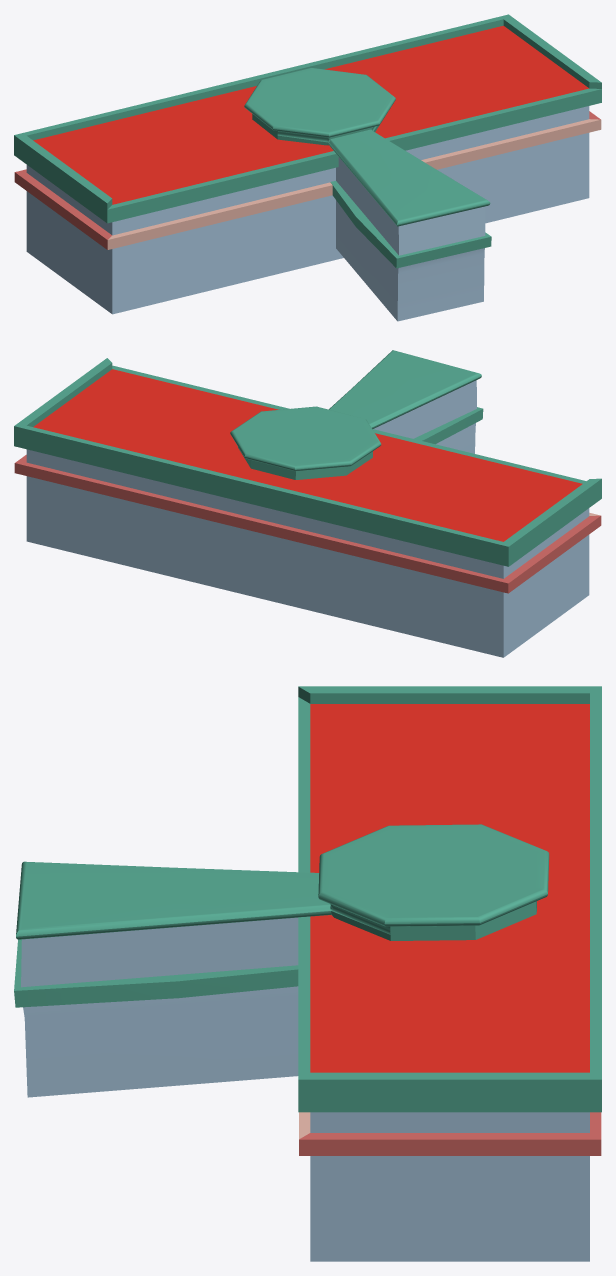
Rendered from tawlaResto.fbx.
The picture shows the model from 3 angles, top to bottom: view 1: azimuth 30°, elevation 25°; view 2: azimuth 150°, elevation 25°; view 3: azimuth 270°, elevation 25°; orthographic projection. The views are drawn at different scales.
Visible parts, largest first — view 1: pCube9, pCylinder1; view 2: pCube9, pCylinder1; view 3: pCube9, pCylinder1.
Part boxes in pixels (<box>): pCube9: <box>14,14,601,314</box>; pCylinder1: <box>244,67,491,321</box>; pCube9: <box>14,358,601,657</box>; pCylinder1: <box>230,350,483,479</box>; pCube9: <box>298,686,601,1261</box>; pCylinder1: <box>14,824,549,1097</box>.
Size of the model in its own units: 17.44 by 4.31 by 11.02.
